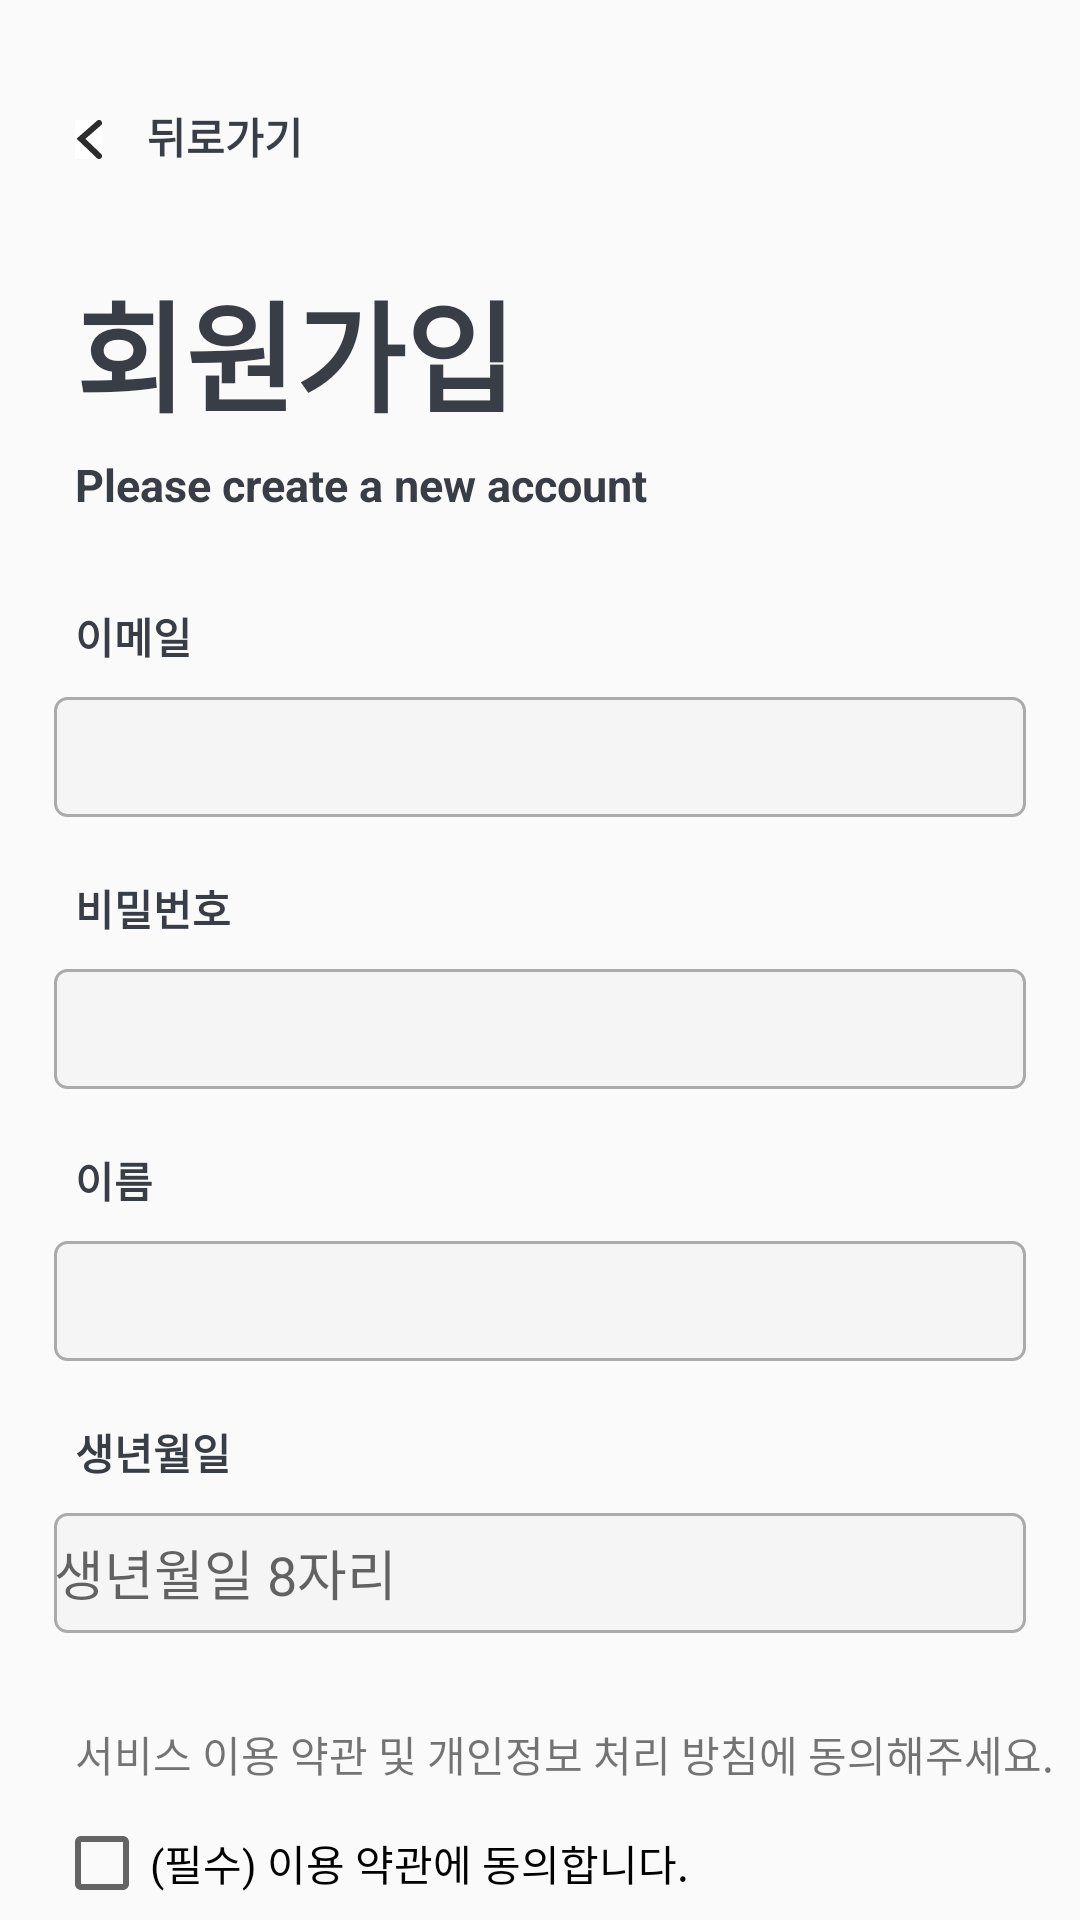

Screen size 1080x1920. Icon name, then its box in pixels as BBox(x1, y1, x2, y2):
arrow: BBox(76, 120, 102, 159)
